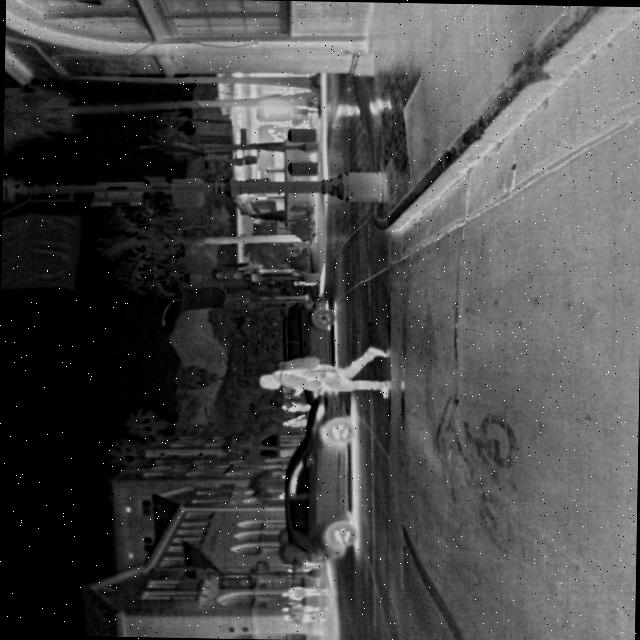Pedestrian: (255, 343, 392, 403), (280, 584, 328, 600), (283, 609, 327, 624), (281, 601, 325, 614), (280, 413, 310, 430)
Vehicle: (280, 390, 362, 563), (280, 296, 340, 407)
